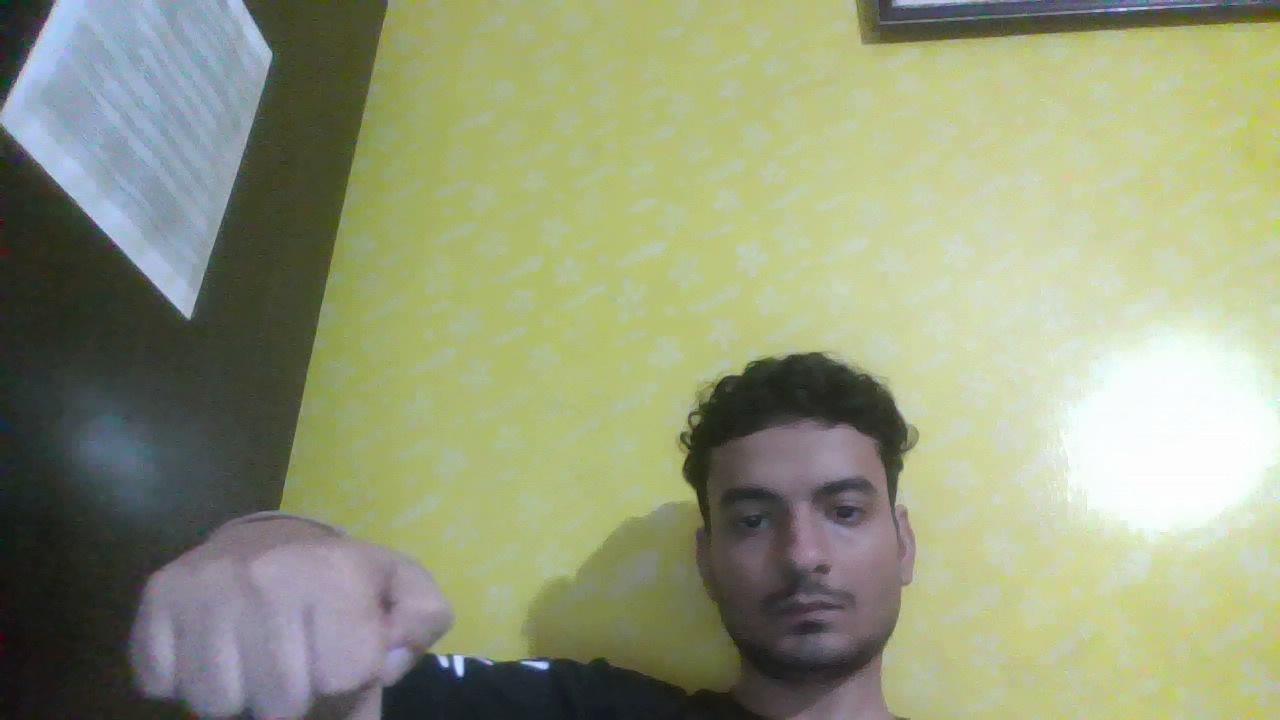Yes: (103, 479, 475, 720)
